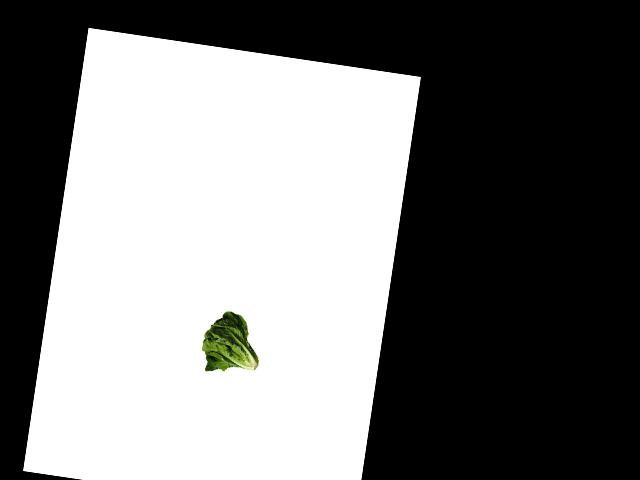lettuce: (196, 307, 268, 380)
